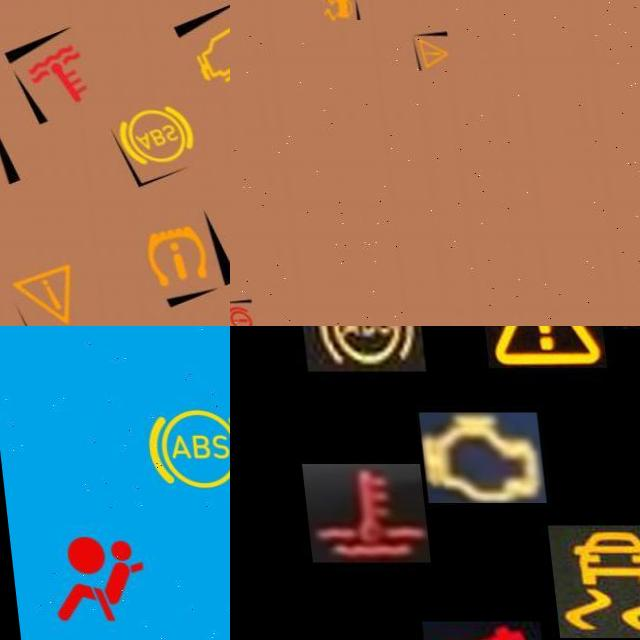Central Warning lamp: (473, 326, 600, 368)
Engine cooling system: (293, 464, 419, 562)
